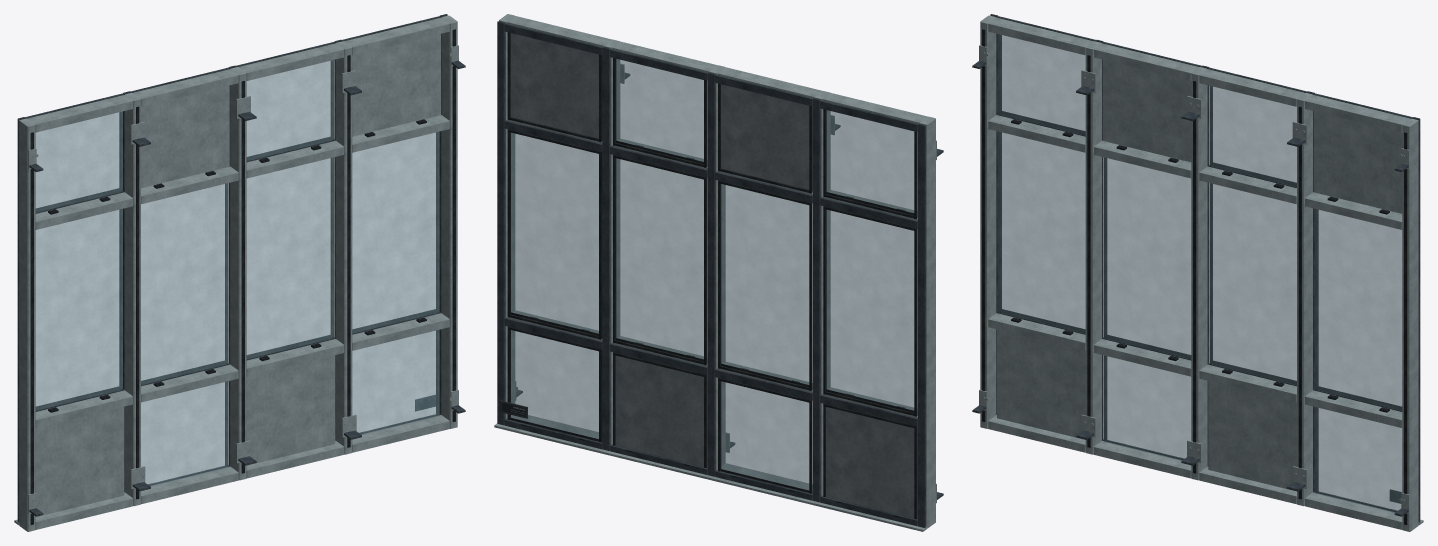
The model's file is PROJECT_Z_Glass_CurtainWall_Facade_Kit.glb.
The picture shows the model from 3 angles, left to right: view 1: azimuth 30°, elevation 25°; view 2: azimuth 150°, elevation 25°; view 3: azimuth 330°, elevation 25°; orthographic projection.
Visible parts, largest first — view 1: Glass_Vision_Tempered_R02_B02, Glass_Vision_Tempered_R02_B04, Glass_Vision_Tempered_R02_B01, Glass_Vision_Tempered_R02_B03, Backpan_Aluminium_R01_B01, Backpan_Aluminium_R01_B03, Glass_Vision_Tempered_R01_B02, Glass_Vision_Tempered_R01_B04, Backpan_Aluminium_R03_B02, Backpan_Aluminium_R03_B04, Glass_Vision_Tempered_R03_B01, Glass_Vision_Tempered_R03_B03 (+35 smaller); view 2: Glass_Vision_Tempered_R02_B01, Glass_Vision_Tempered_R02_B03, Glass_Vision_Tempered_R02_B02, Glass_Vision_Tempered_R02_B04, Panel_Opaque_Spandrel_R01_B01, Panel_Opaque_Spandrel_R01_B03, Glass_Vision_Tempered_R01_B02, Panel_Opaque_Spandrel_R03_B02, Glass_Vision_Tempered_R01_B04, Panel_Opaque_Spandrel_R03_B04, Glass_Vision_Tempered_R03_B01, Glass_Vision_Tempered_R03_B03 (+41 smaller); view 3: Glass_Vision_Tempered_R02_B03, Glass_Vision_Tempered_R02_B01, Glass_Vision_Tempered_R02_B04, Glass_Vision_Tempered_R02_B02, Backpan_Aluminium_R01_B01, Backpan_Aluminium_R01_B03, Glass_Vision_Tempered_R01_B04, Glass_Vision_Tempered_R01_B02, Backpan_Aluminium_R03_B04, Backpan_Aluminium_R03_B02, Glass_Vision_Tempered_R03_B01, Glass_Vision_Tempered_R03_B03 (+35 smaller).
Part boxes in pixels (x1,y1,x2,y2): Glass_Vision_Tempered_R02_B02: (141,183,228,384); Glass_Vision_Tempered_R02_B04: (352,132,439,333); Glass_Vision_Tempered_R02_B01: (35,209,122,410); Glass_Vision_Tempered_R02_B03: (246,157,333,358); Backpan_Aluminium_R01_B01: (35,406,124,516); Backpan_Aluminium_R01_B03: (246,355,335,465); Glass_Vision_Tempered_R01_B02: (141,381,228,486); Glass_Vision_Tempered_R01_B04: (352,330,439,434); Backpan_Aluminium_R03_B02: (141,85,229,187); Backpan_Aluminium_R03_B04: (352,34,440,136); Glass_Vision_Tempered_R03_B01: (35,111,122,212); Glass_Vision_Tempered_R03_B03: (246,60,333,160); Glass_Vision_Tempered_R02_B01: (826,210,917,413); Glass_Vision_Tempered_R02_B03: (616,158,707,361); Glass_Vision_Tempered_R02_B02: (721,184,809,384); Glass_Vision_Tempered_R02_B04: (511,132,598,333); Panel_Opaque_Spandrel_R01_B01: (826,407,917,518); Panel_Opaque_Spandrel_R01_B03: (615,355,707,466); Glass_Vision_Tempered_R01_B02: (721,381,809,490); Panel_Opaque_Spandrel_R03_B02: (721,84,812,190); Glass_Vision_Tempered_R01_B04: (511,330,598,438); Panel_Opaque_Spandrel_R03_B04: (510,33,598,138); Glass_Vision_Tempered_R03_B01: (826,110,917,215); Glass_Vision_Tempered_R03_B03: (616,59,707,164); Glass_Vision_Tempered_R02_B03: (1209,183,1296,384); Glass_Vision_Tempered_R02_B01: (998,132,1085,333); Glass_Vision_Tempered_R02_B04: (1315,209,1402,410); Glass_Vision_Tempered_R02_B02: (1104,157,1191,358); Backpan_Aluminium_R01_B01: (997,329,1085,439); Backpan_Aluminium_R01_B03: (1208,381,1296,491); Glass_Vision_Tempered_R01_B04: (1315,407,1402,512); Glass_Vision_Tempered_R01_B02: (1104,355,1191,460); Backpan_Aluminium_R03_B04: (1313,111,1402,213); Backpan_Aluminium_R03_B02: (1102,59,1191,162); Glass_Vision_Tempered_R03_B01: (998,34,1085,134); Glass_Vision_Tempered_R03_B03: (1209,86,1296,186).
Size of the model in its own units: 4 by 3.6 by 0.342.
6 materials, 6 textured.
